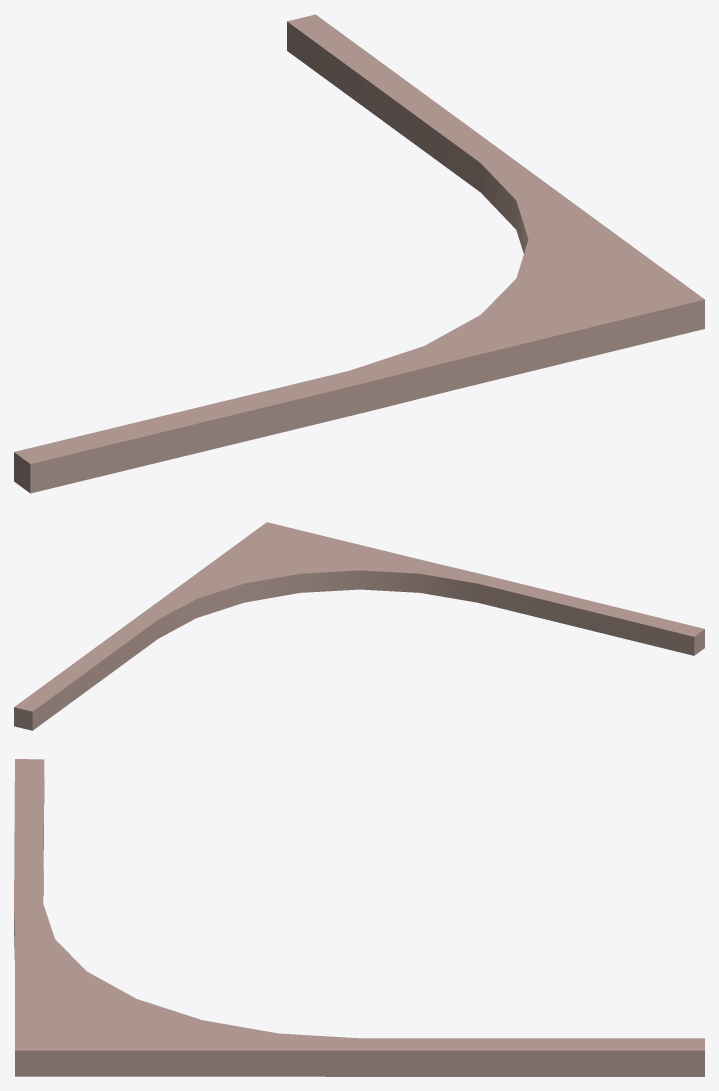
Rendered from Deck_Floor_Ceiling_corner_outer.fbx.
3 renders of one model, top to bottom at view 1: azimuth 30°, elevation 25°; view 2: azimuth 150°, elevation 25°; view 3: azimuth 270°, elevation 25°, orthographic. The views are drawn at different scales.
Visible parts, largest first — view 1: Floor_corner_outer; view 2: Floor_corner_outer; view 3: Floor_corner_outer.
Part boxes in pixels (bbox=[...]): Floor_corner_outer: bbox=[14, 14, 704, 493]; Floor_corner_outer: bbox=[14, 522, 704, 730]; Floor_corner_outer: bbox=[14, 759, 704, 1076].
Bounding box in the file's own units: 300 × 12.5 × 300.
